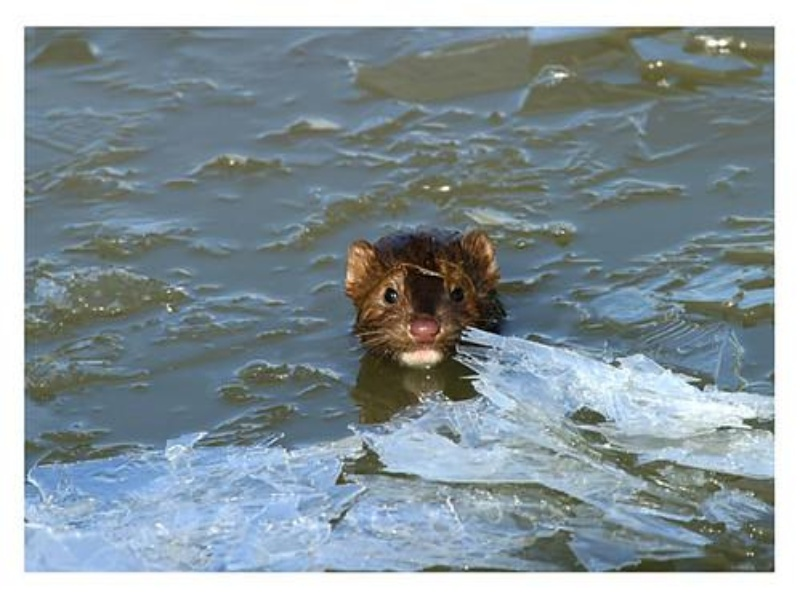minkish: (343, 227, 517, 366)
